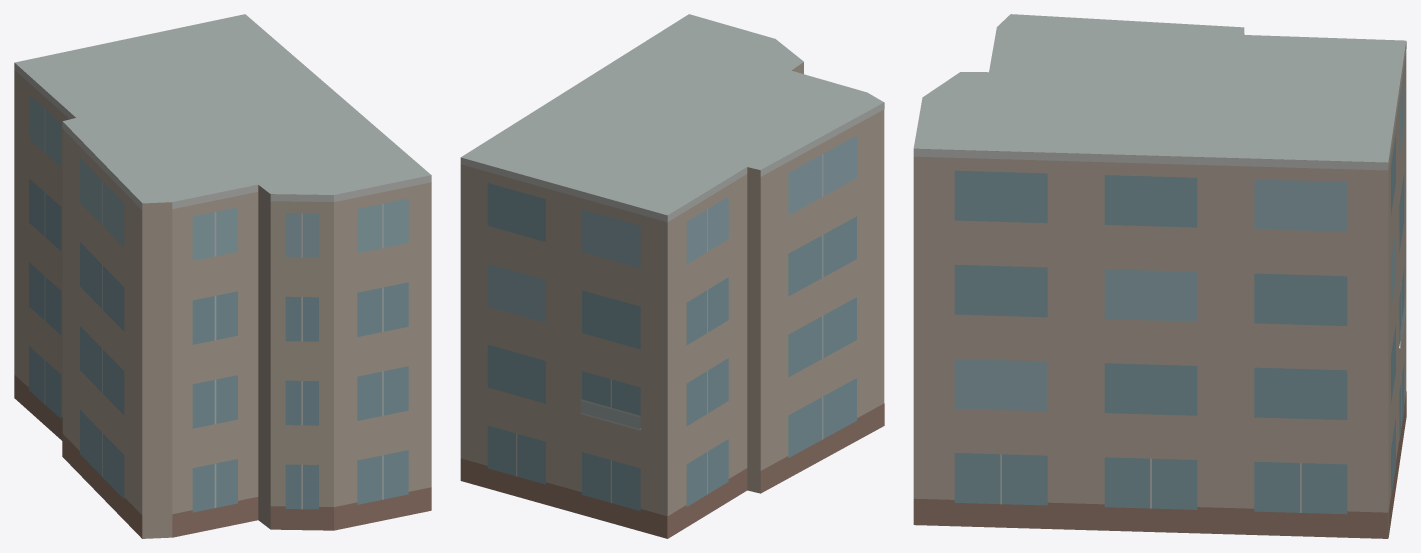
File: survey-upis-32493920.glb
3 views of the same model, side by side, from view 1: azimuth 30°, elevation 25°; view 2: azimuth 150°, elevation 25°; view 3: azimuth 270°, elevation 25° (orthographic). The views are drawn at different scales.
Parts seen in each view (by area): view 1: survey-upis-32493920.tmp; view 2: survey-upis-32493920.tmp; view 3: survey-upis-32493920.tmp.
Boxes of the visible parts, left/top/right/bottom form: survey-upis-32493920.tmp: left=14, top=14, right=431, bottom=538; survey-upis-32493920.tmp: left=460, top=14, right=884, bottom=538; survey-upis-32493920.tmp: left=913, top=14, right=1406, bottom=538.
Size of the model in its own units: 9.74 by 11.5 by 13.66.
